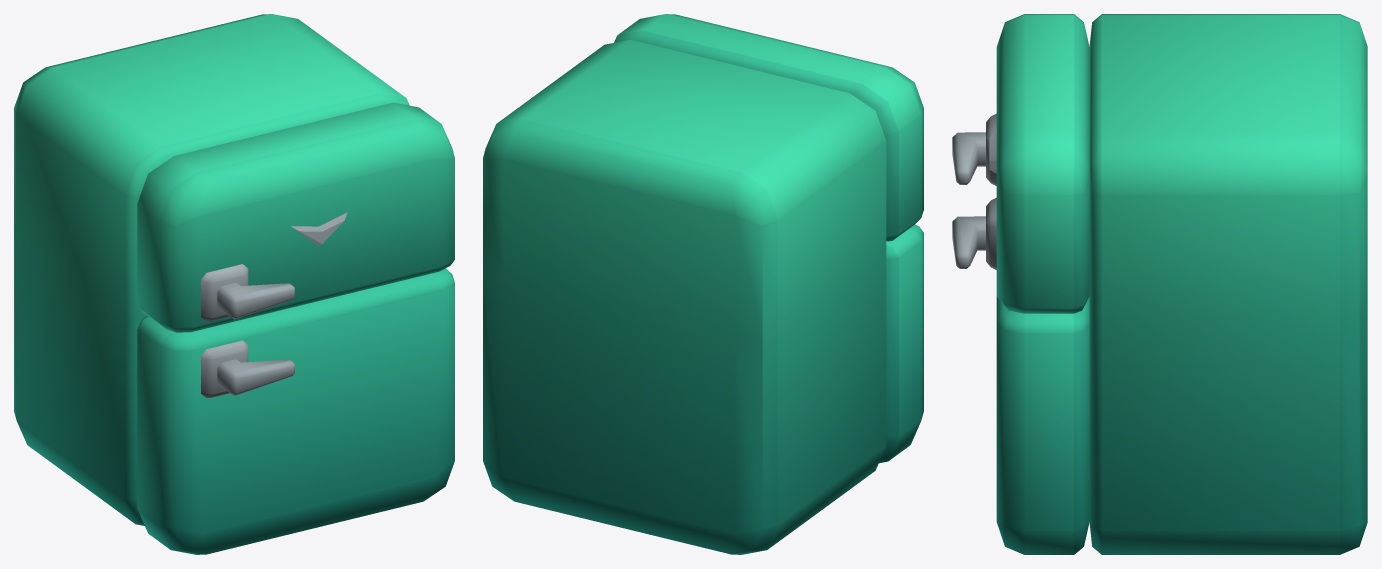
File: kay-fridge_a.glb
3 renders of one model, left to right at view 1: azimuth 30°, elevation 25°; view 2: azimuth 150°, elevation 25°; view 3: azimuth 270°, elevation 25°, orthographic. The views are drawn at different scales.
Visible parts, largest first — view 1: fridge_A, fridge_A_door_bottom, fridge_A_door_top; view 2: fridge_A, fridge_A_door_top, fridge_A_door_bottom; view 3: fridge_A, fridge_A_door_top, fridge_A_door_bottom.
Boxes of the visible parts, x1,y1,x2,y2 form: fridge_A: (14,14,409,525); fridge_A_door_bottom: (137,268,454,554); fridge_A_door_top: (137,102,454,332); fridge_A: (483,39,886,554); fridge_A_door_top: (614,14,923,241); fridge_A_door_bottom: (879,224,923,463); fridge_A: (1089,14,1367,554); fridge_A_door_top: (952,14,1089,313); fridge_A_door_bottom: (952,197,1089,554).
Size of the model in its own units: 1.52 by 1.9 by 1.7.
Materials: 1 (1 with a texture image).
